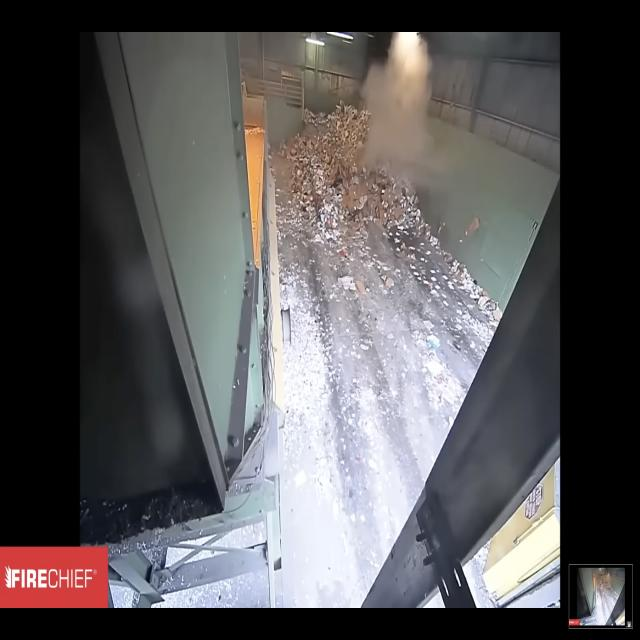Atencao: (356, 36, 468, 232)
